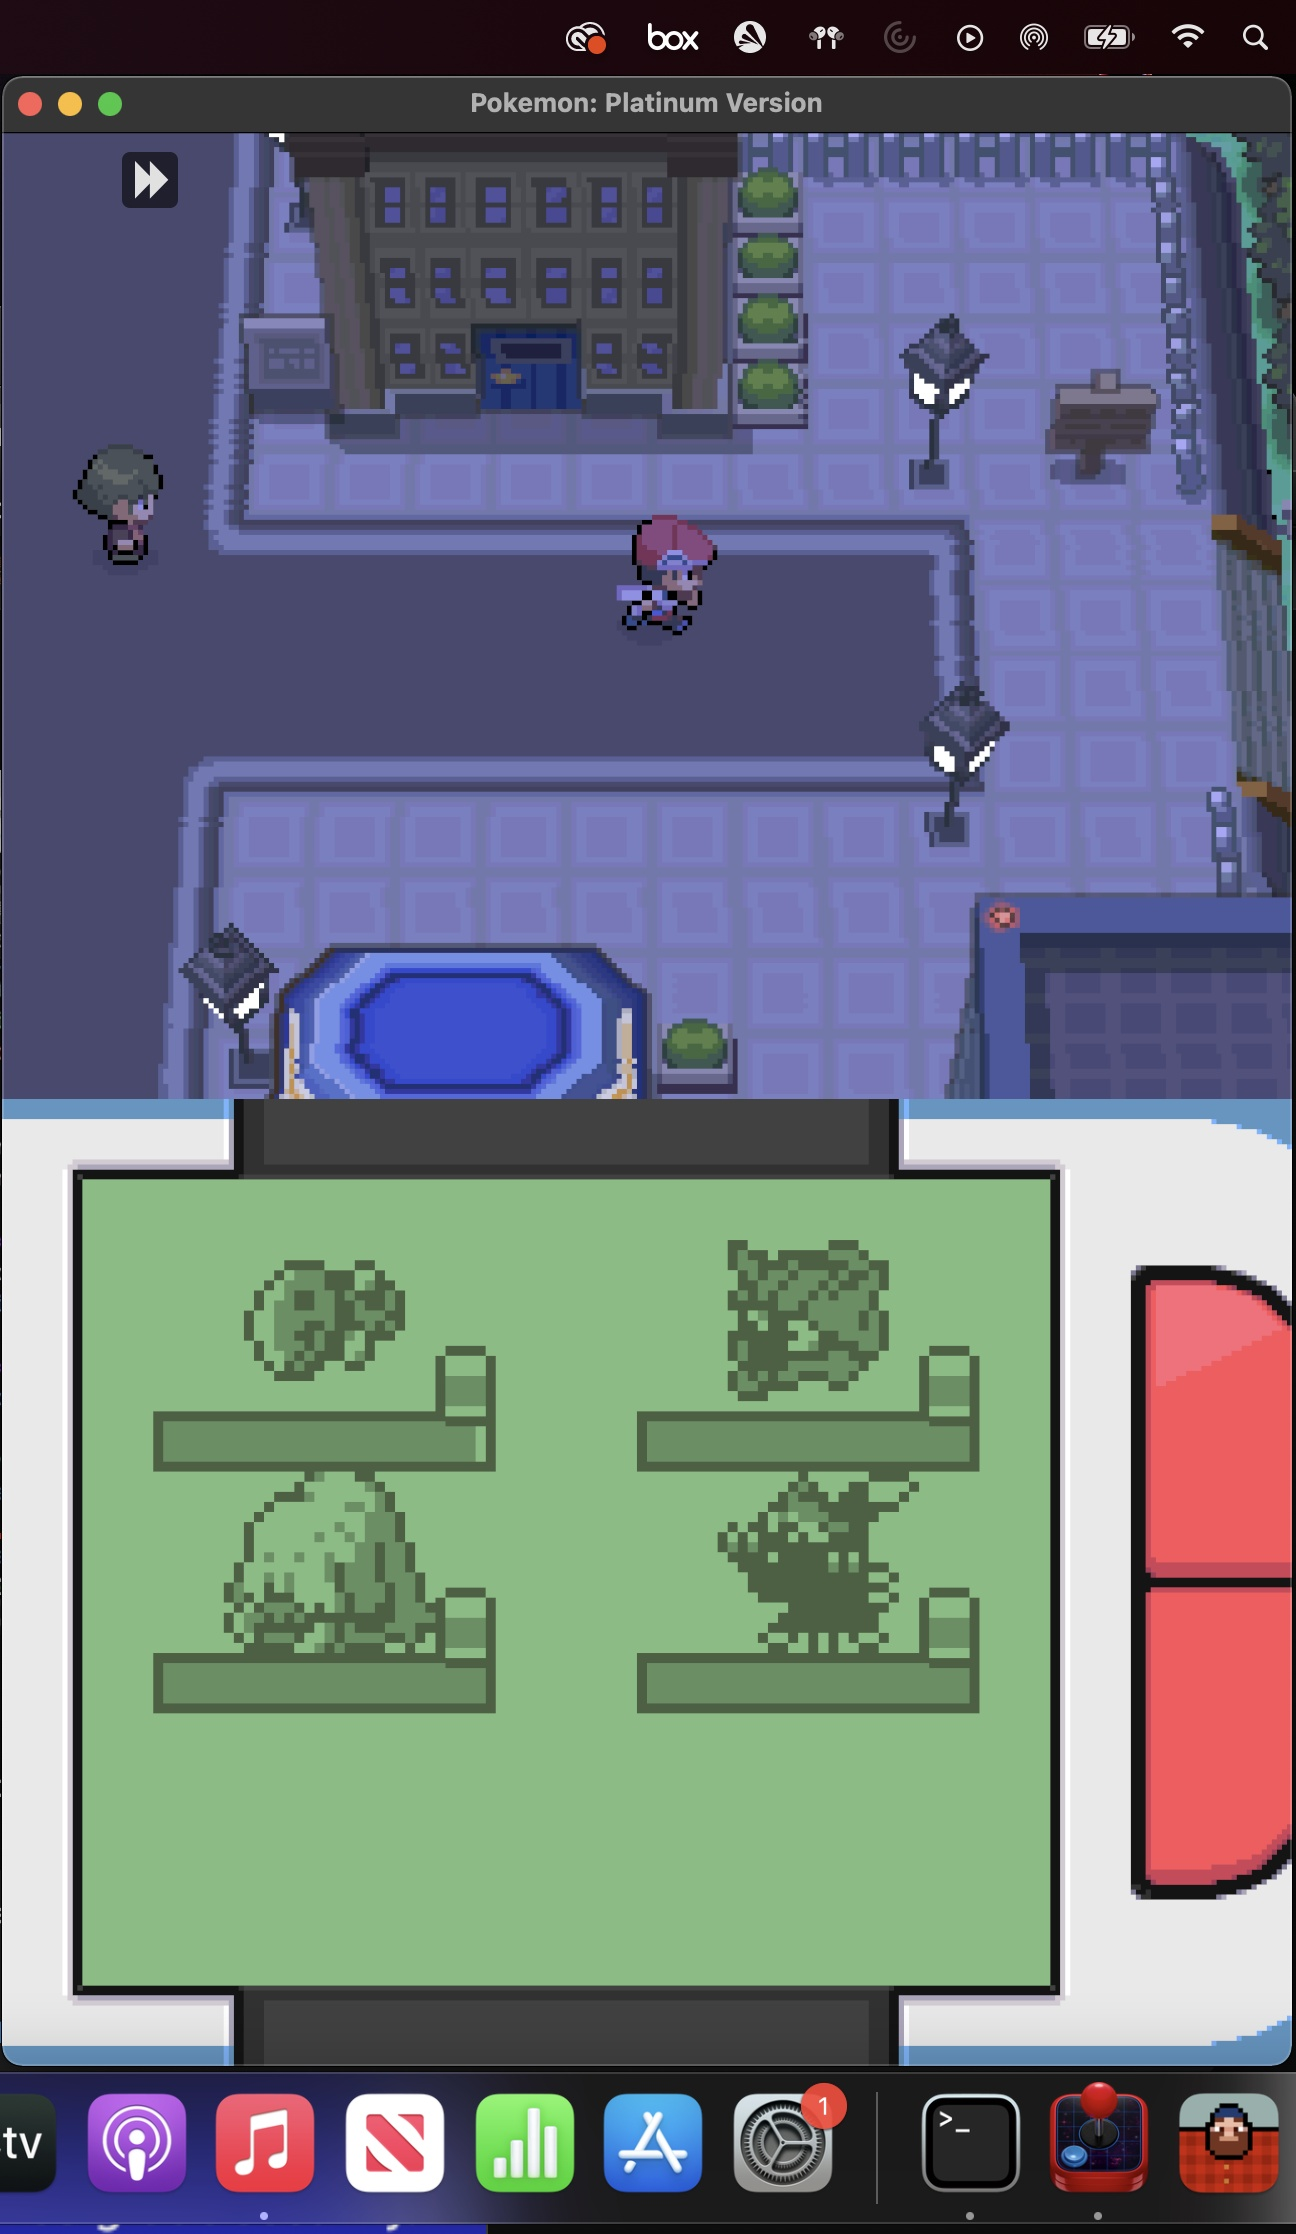player: (602, 505, 716, 641)
turn left: (893, 311, 1170, 502)
